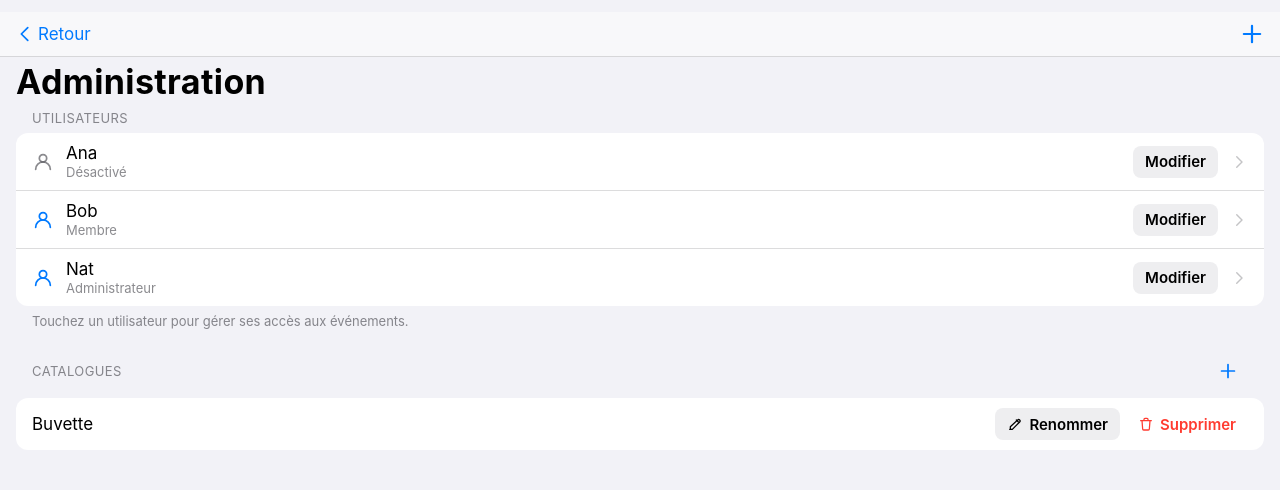
Test: AdminView › shows the FK message when a catalog delete is refused
The width and height of the screenshot is (1280, 490).
Click the button "Supprimer": click(1187, 424) [1126,408,1248,440]
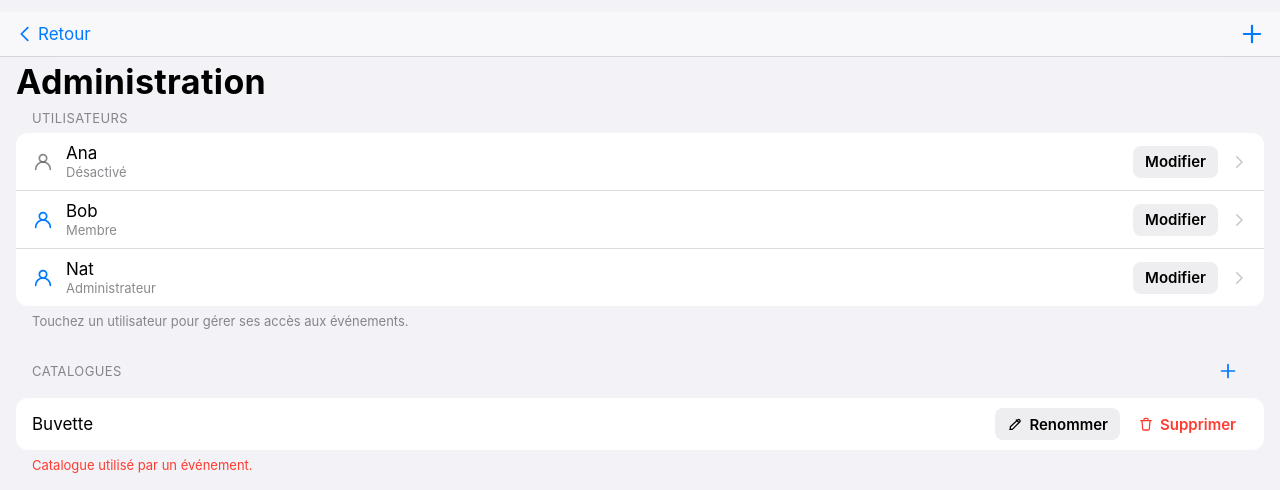
Expected: the text "Catalogue utilisé par un événement." is shown, [32,457,253,473]
